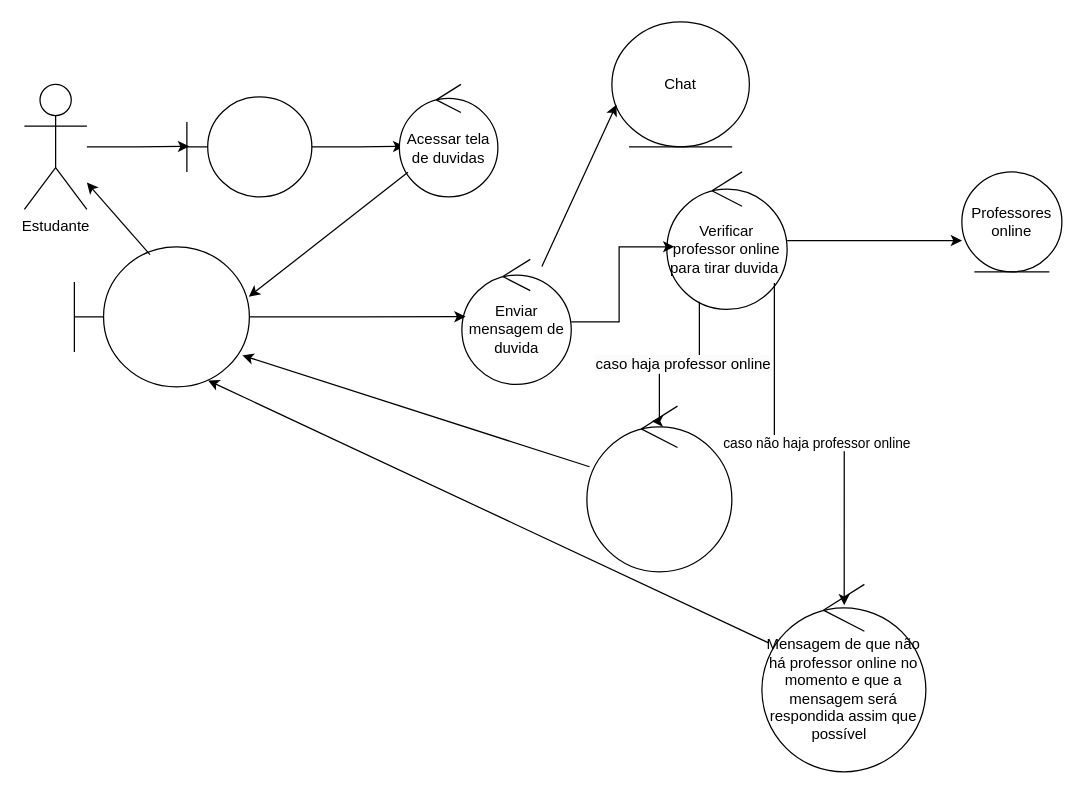
Image size: 1084x794. Some labels were removed from this diagram. The shapes that lost their labels are listed below. From the top down, each one's box as (x1, y1, x2, y2) in pixels, then its label:
(186, 96, 312, 197): Tela principal
(73, 246, 249, 387): Tela de duvidas
(586, 405, 732, 572): Mensagem de que existe um professor online e ele já ira responder
